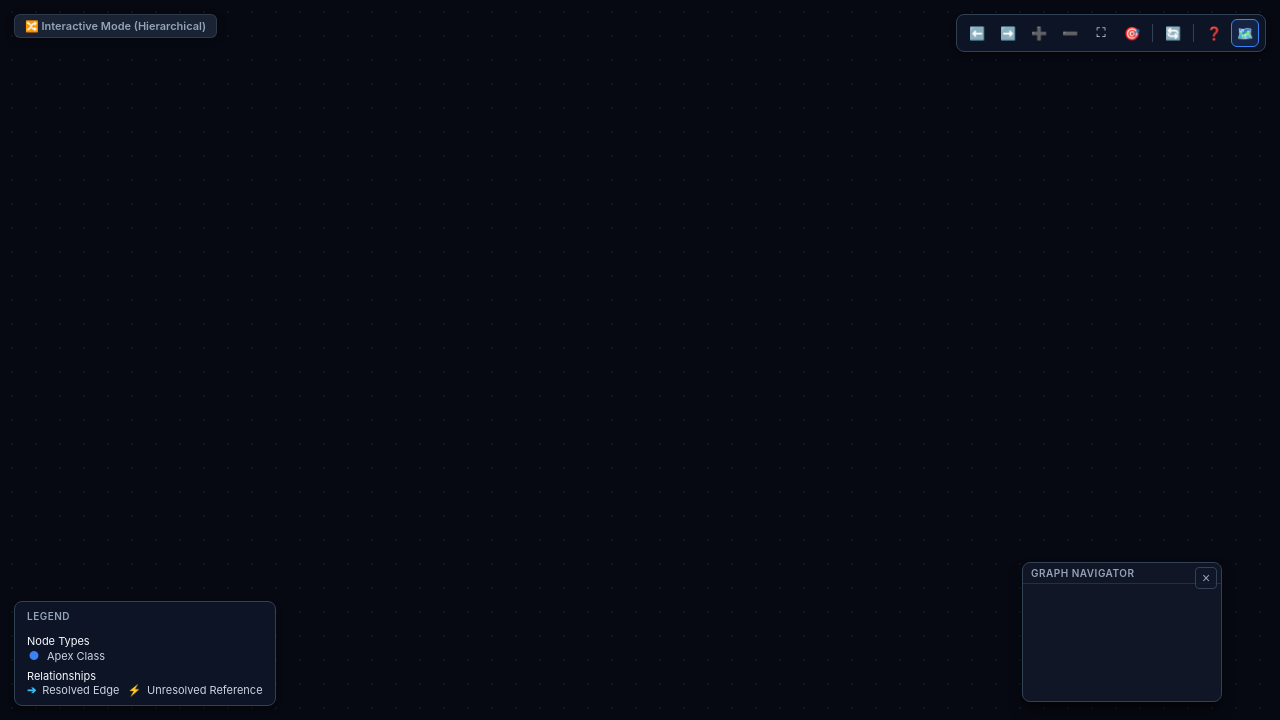
Test: Parallel Agent E Acceptance Suite › LAYOUT TESTS › verifies navigator visible vs hidden requirement
The image size is (1280, 720).
Expected: the element with class "minimap-container" is shown, [1022,562,1222,702]
Click the button with class "navigator-close-btn" at (1206, 578), box [1195,567,1217,589]
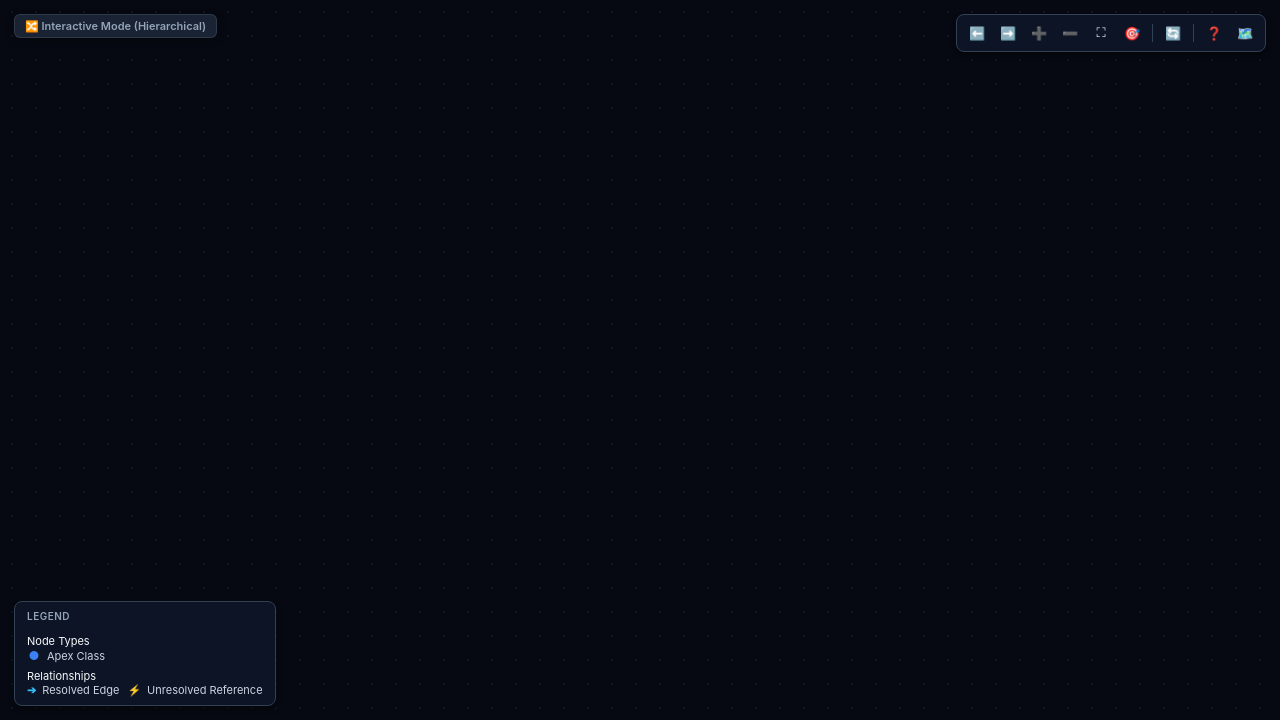
Expected: the element with class "minimap-container" is gone
